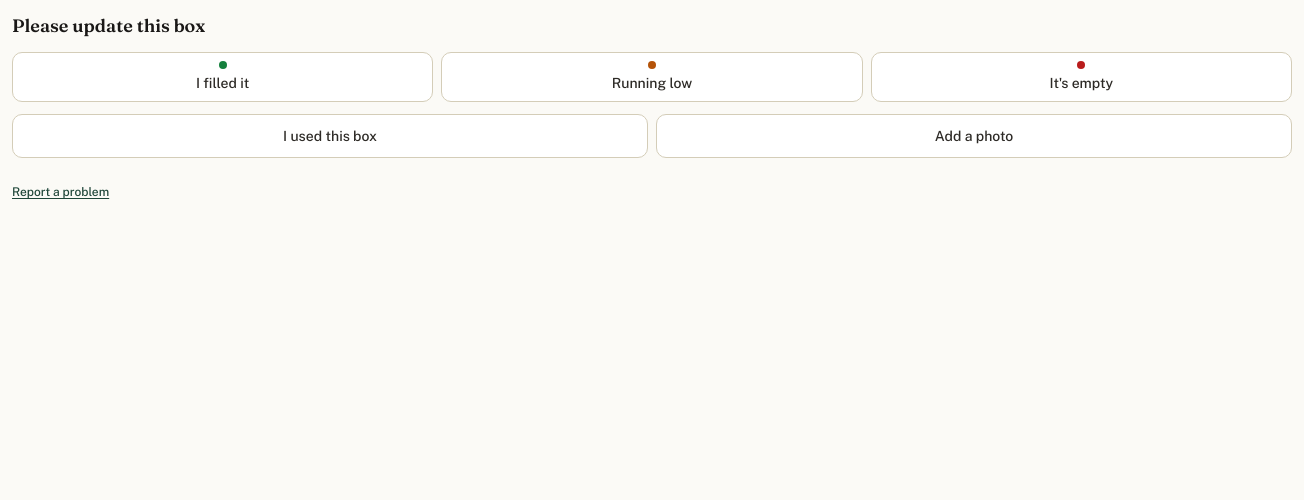
BoxCheckinPanel — note kinds (filled/problem) › tapping 'I filled it' opens an optional note form instead of submitting immediately
Click the button "I filled it" at [223, 77], box [12, 52, 433, 102]
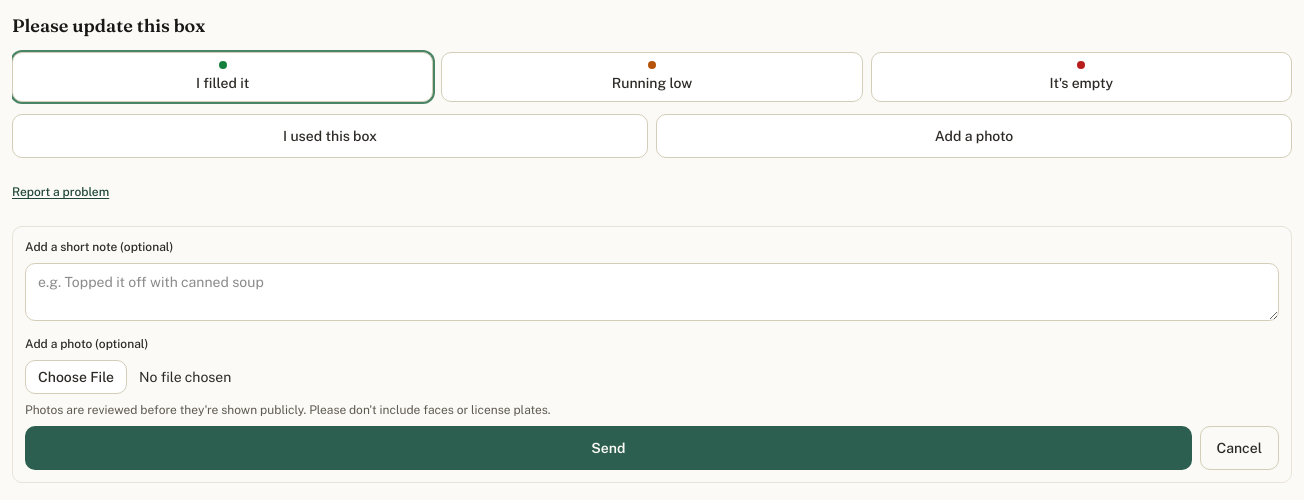
Check: the text box labelled "Add a short note (optional)" is shown, box [25, 263, 1279, 321]
